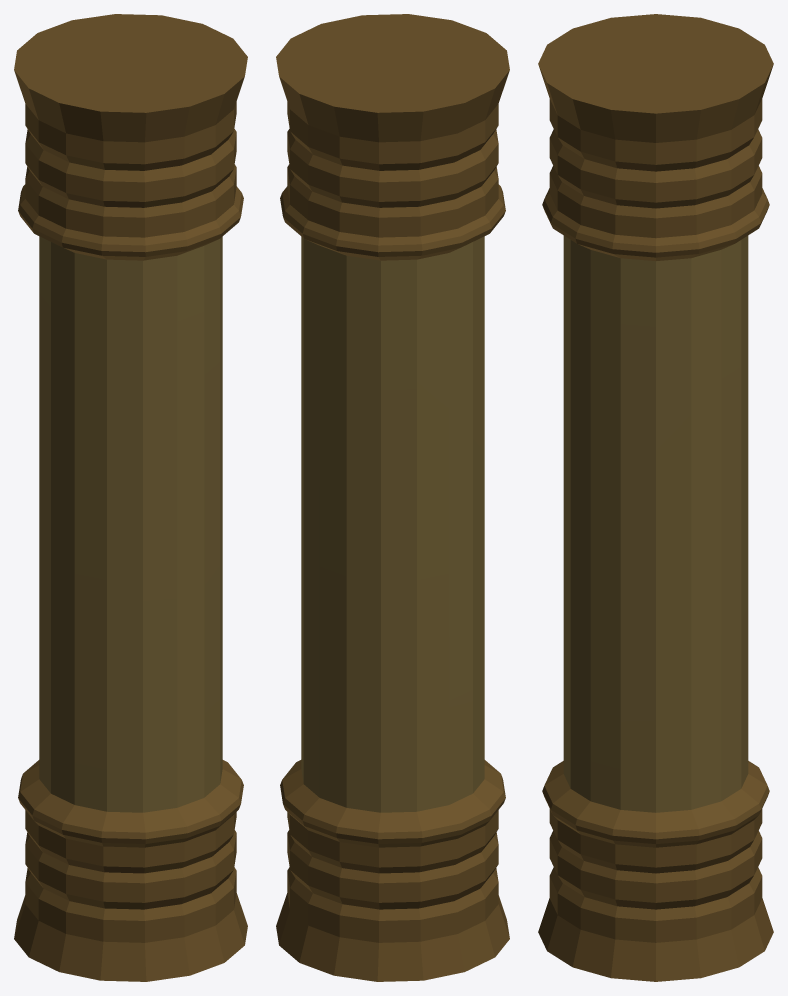
Rendered from SM_Pillar1.fbx.
The picture shows the model from 3 angles, left to right: view 1: azimuth 30°, elevation 25°; view 2: azimuth 150°, elevation 25°; view 3: azimuth 270°, elevation 25°; orthographic projection.
Parts seen in each view (by area): view 1: SM_Pillar1; view 2: SM_Pillar1; view 3: SM_Pillar1.
Part boxes in pixels (x1,y1,x2,y2): SM_Pillar1: (14,14,247,981); SM_Pillar1: (276,14,509,981); SM_Pillar1: (538,14,773,981).
Size of the model in its own units: 221 by 900 by 221.
